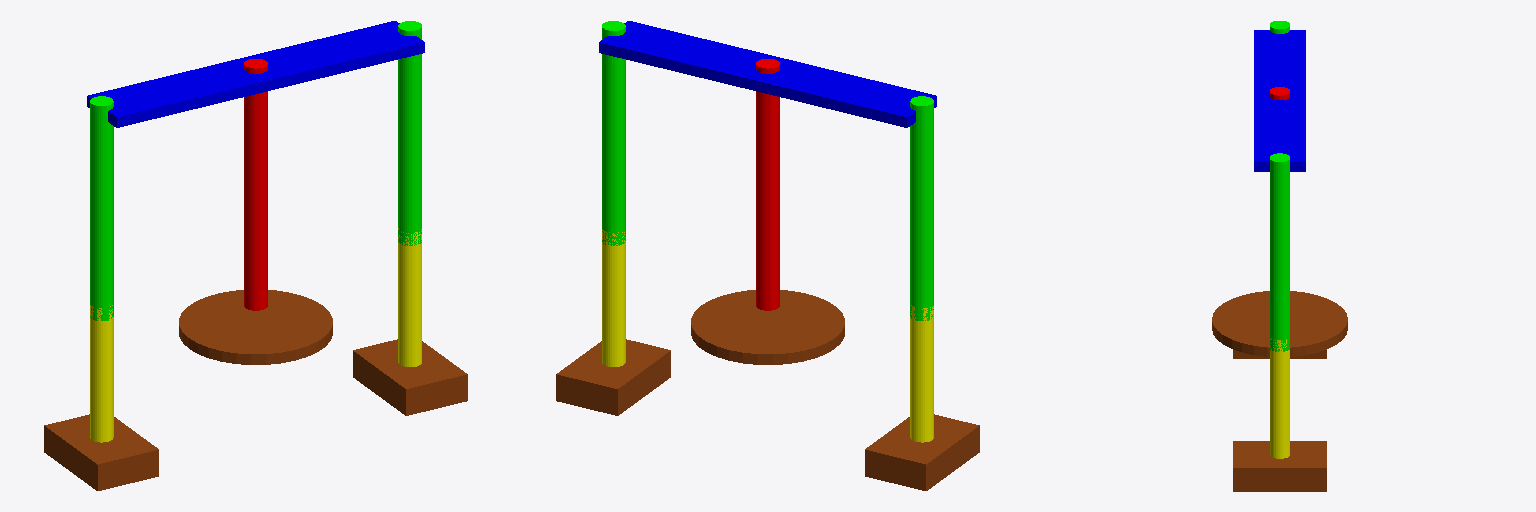
robot.urdf — better_tripedal_robot:
<?xml version="1.0" ?>
<robot name="better_tripedal_robot">

  <!-- Base link -->
  <link name="base_link">
    <inertial>
      <origin xyz="0 0 0" rpy="0 0 0"/>
      <mass value="0.5"/>
      <inertia ixx="0.1" ixy="0" ixz="0" iyy="0.1" iyz="0" izz="0.1"/>
    </inertial>
    <collision>
      <geometry>
        <box size="0.6 0.1 0.02"/>
      </geometry>
    </collision>
    <visual>
      <origin xyz="0 0 0.18" rpy="0 0 0"/>
      <geometry>
        <box size="0.6 0.1 0.02"/>
      </geometry>
      <material name="blue"/>
    </visual>
  </link>

  <!-- Define materials -->
  <material name="blue">
    <color rgba="0 0 1 1"/>
  </material>
  <material name="green">
    <color rgba="0 1 0 1"/>
  </material>
  <material name="yellow">
    <color rgba="1 1 0 1"/>
  </material>
  <material name="red">
    <color rgba="1 0 0 1"/>
  </material>
  <material name="brown">
    <color rgba="0.6 0.3 0.1 1"/>
  </material>

  <!-- Outer Left Leg -->
  <link name="left_leg_upper">
    <inertial>
      <origin xyz="0 0 0" rpy="0 0 0"/>
      <mass value="0.3"/>
      <inertia ixx="0.005" ixy="0" ixz="0.005" iyy="0.005" iyz="0" izz="0.005"/>
    </inertial>
    <collision>
      <geometry>
        <cylinder radius="0.02" length="0.4"/>
      </geometry>
    </collision>
    <visual>
      <geometry>
        <cylinder radius="0.02" length="0.4"/>
      </geometry>
      <material name="green"/>
    </visual>
  </link>

  <link name="left_leg_lower">
    <inertial>
      <origin xyz="0 0 -0.18" rpy="0 0 0"/> <!-- Adjusted to position the lower leg relative to upper leg -->
      <mass value="0.3"/>
      <inertia ixx="0.005" ixy="0" ixz="0.005" iyy="0.005" iyz="0" izz="0.005"/>
    </inertial>
    <collision>
      <geometry>
        <cylinder radius="0.02" length="0.4"/>
      </geometry>
    </collision>
    <visual>
     <origin xyz="0 0 -0.1" rpy="0 0 0"/> 
      <geometry>
        <cylinder radius="0.02" length="0.25"/>
      </geometry>
      <material name="yellow"/>
    </visual>
  </link>

<joint name="left_knee" type="revolute">
  <parent link="left_leg_upper"/>
  <child link="left_leg_lower"/>
  <origin xyz="0 0 -0.2" rpy="0 0 0"/> <!-- Ensure this aligns with the lower leg's top -->
  <axis xyz="1 0 0"/>
  <limit lower="-2.356" upper="2.356" effort="10" velocity="10"/> <!-- Updated range for LK -->
</joint>

  <!-- Outer Right Leg -->
  <link name="right_leg_upper">
    <inertial>
      <origin xyz="0 0 0" rpy="0 0 0"/>
      <mass value="0.3"/>
      <inertia ixx="0.005" ixy="0" ixz="0.005" iyy="0.005" iyz="0" izz="0.005"/>
    </inertial>
    <collision>
      <geometry>
        <cylinder radius="0.02" length="0.4"/>
      </geometry>
    </collision>
    <visual>
      <geometry>
        <cylinder radius="0.02" length="0.4"/>
      </geometry>
      <material name="green"/>
    </visual>
  </link>

  <link name="right_leg_lower">
    <inertial>
      <origin xyz="0 0 -0.18" rpy="0 0 0"/> <!-- Adjusted to position the lower leg relative to upper leg -->
      <mass value="0.3"/>
      <inertia ixx="0.005" ixy="0" ixz="0.005" iyy="0.005" iyz="0" izz="0.005"/>
    </inertial>
    <collision>
      <geometry>
        <cylinder radius="0.02" length="0.4"/>
      </geometry>
    </collision>
    <visual>
     <origin xyz="0 0 -0.1" rpy="0 0 0"/> 
      <geometry>
        <cylinder radius="0.02" length="0.25"/>
      </geometry>
      <material name="yellow"/>
    </visual>
  </link>

<joint name="right_knee" type="revolute">
  <parent link="right_leg_upper"/>
  <child link="right_leg_lower"/>
  <origin xyz="0 0 -0.2" rpy="0 0 0"/> <!-- Ensure this aligns with the lower leg's top -->
  <axis xyz="1 0 0"/>
  <limit lower="-2.356" upper="2.356" effort="10" velocity="10"/> <!-- Updated range for RK -->
</joint>


<!-- Center Leg Part 1 -->
<link name="center_leg_part1">
  <inertial>
    <origin xyz="0 0 0" rpy="0 0 0"/>
    <mass value="0.3"/>
    <inertia ixx="0.0025" ixy="0" ixz="0" iyy="0.0025" iyz="0" izz="0.0025"/>
  </inertial>
  <collision>
    <geometry>
      <cylinder radius="0.02" length="0.1"/>
    </geometry>
  </collision>
  <visual>
    <origin xyz="0 0 -.1" rpy="0 0 0"/>
    <geometry>
      <cylinder radius="0.02" length="0.4"/>
    </geometry>
    <material name="red"/>
  </visual>
</link>

<joint name="center_leg_joint1" type="revolute">
  <parent link="base_link"/>
  <child link="center_leg_part1"/>
  <origin xyz="0 0 0.1" rpy="0 0 0"/>
  <axis xyz="1 0 0"/>
  <limit lower="-1.57" upper="1.57" effort="10" velocity="10"/>
</joint>

<!-- Center Leg Part 2 -->
<link name="center_leg_part2">
  <inertial>
    <origin xyz="0 0 -0.5" rpy="0 0 0"/>
    <mass value="0.5"/>
    <inertia ixx="0.0025" ixy="0" ixz="0.0025" iyy="0.0025" iyz="0" izz="0.0025"/>
  </inertial>
  <collision>
    <geometry>
      <cylinder radius="0.02" length="0.4"/>
    </geometry>
  </collision>
  <visual>
    <geometry>
      <cylinder radius="0.02" length="0.4"/>
    </geometry>
    <material name="red"/>
  </visual>
</link>

<joint name="center_leg_joint2" type="prismatic">
  <parent link="center_leg_part1"/>
  <child link="center_leg_part2"/>
  <origin xyz="0 0 -0.15" rpy="0 0 0"/>
  <axis xyz="0 0 -0.6"/>
  <limit lower="0.0" upper="0.4" effort="10" velocity="10"/>
</joint>

 <link name="center_foot">
    <inertial>
      <origin xyz="0 0 0" rpy="0 0 0"/>
      <mass value="0.5"/>
      <inertia ixx="0.005" ixy="0" ixz="0.005" iyy="0.005" iyz="0" izz="0.005"/>
    </inertial>
    <collision>
      <geometry>
        <cylinder radius="0.13" length="0.02"/> <!-- Circular design -->
      </geometry>
      <surface>
        <friction>
          <ode>
            <mu>2.0</mu>
            <mu2>2.0</mu2>
          </ode>
        </friction>
        <rolling_friction>
          <ode>
            <slip1>0.04</slip1>
            <slip2>0.04</slip2>
          </ode>
        </rolling_friction>
      </surface>
    </collision>
    <visual>
      <geometry>
        <cylinder radius="0.13" length="0.02"/> <!-- Circular design -->
      </geometry>
      <material name="brown"/>
    </visual>
  </link>

  <!-- Feet -->
  <link name="left_foot">
    <inertial>
      <origin xyz="0 0 0" rpy="0 0 0"/>
      <mass value="0.5"/>
      <inertia ixx="0.005" ixy="0" ixz="0.005" iyy="0.005" iyz="0" izz="0.005"/>
    </inertial>
    <collision>
      <geometry>
        <box size="0.12 0.18 0.05"/> <!-- Increased size for thickness -->
      </geometry>
      <surface>
        <friction>
          <ode>
            <mu>2.0</mu>
            <mu2>2.0</mu2>
          </ode>
        </friction>
        <rolling_friction>
          <ode>
            <slip1>0.04</slip1>
            <slip2>0.04</slip2>
          </ode>
        </rolling_friction>
      </surface>
    </collision>
    <visual>
      <geometry>
        <box size="0.12 0.18 0.05"/> <!-- Increased size for thickness -->
      </geometry>
      <material name="brown"/>
    </visual>
  </link>

  <link name="right_foot">
    <inertial>
      <origin xyz="0 0 0" rpy="0 0 0"/>
      <mass value="0.5"/>
      <inertia ixx="0.005" ixy="0" ixz="0.005" iyy="0.005" iyz="0" izz="0.005"/>
    </inertial>
    <collision>
      <geometry>
        <box size="0.12 0.18 0.05"/> <!-- Increased size for thickness -->
      </geometry>
      <surface>
        <friction>
          <ode>
            <mu>2.0</mu>
            <mu2>2.0</mu2>
          </ode>
        </friction>
        <rolling_friction>
          <ode>
            <slip1>0.04</slip1>
            <slip2>0.04</slip2>
          </ode>
        </rolling_friction>
      </surface>
    </collision>
    <visual>
      <geometry>
        <box size="0.12 0.18 0.05"/> <!-- Increased size for thickness -->
      </geometry>
      <material name="brown"/>
    </visual>
  </link>

  <!-- Joints connecting legs to base -->
<joint name="left_hip" type="revolute">
  <parent link="base_link"/>
  <child link="left_leg_upper"/>
  <origin xyz="-0.3 0 0" rpy="0 0 0"/>
  <axis xyz="1 0 0"/>
  <limit lower="-2.617" upper="2.617" effort="10" velocity="10"/> <!-- Updated range for LH -->
</joint>

<joint name="right_hip" type="revolute">
  <parent link="base_link"/>
  <child link="right_leg_upper"/>
  <origin xyz="0.3 0 0" rpy="0 0 0"/>
  <axis xyz="1 0 0"/>
  <limit lower="-2.617" upper="2.617" effort="10" velocity="10"/> <!-- Updated range for RH -->
</joint>

  <!-- Feet joints -->
  <joint name="left_foot_joint" type="revolute">
    <parent link="left_leg_lower"/>
    <child link="left_foot"/>
    <origin xyz="0 0 -0.25" rpy="0 0 0"/>
    <axis xyz="1 0 -0.1"/>
    <limit lower="-1.57" upper="1.57" effort="10" velocity="10"/>
  </joint>

  <joint name="right_foot_joint" type="revolute">
    <parent link="right_leg_lower"/>
    <child link="right_foot"/>
    <origin xyz="0 0 -0.25" rpy="0 0 0"/>
    <axis xyz="1 0 -0.1"/>
    <limit lower="-1.57" upper="1.57" effort="10" velocity="10"/>
  </joint>

<joint name="center_foot_joint" type="revolute">
  <parent link="center_leg_part2"/>
  <child link="center_foot"/>
  <origin xyz="0 0 -0.24" rpy="0 0 0"/>
  <axis xyz="1 0 0"/>
  <limit lower="-1.57" upper="1.57" effort="10" velocity="10"/>
</joint>

</robot>

--- What the picture shows (computed from the rendered views, not written in the file) ---
The picture shows the robot from 3 angles, left to right: view 1: azimuth 30°, elevation 25°; view 2: azimuth 150°, elevation 25°; view 3: azimuth 270°, elevation 25°; orthographic projection.
Robot: better_tripedal_robot — 10 links, 9 joints (8 revolute, 1 prismatic); root link base_link; default pose: all joints at 0.
Links seen in each view (by area): view 1: base_link, center_foot, left_foot, right_foot, left_leg_upper, right_leg_upper, center_leg_part1, right_leg_lower, left_leg_lower, center_leg_part2; view 2: base_link, center_foot, left_foot, right_foot, left_leg_upper, right_leg_upper, center_leg_part1, left_leg_lower, right_leg_lower, center_leg_part2; view 3: base_link, center_foot, right_foot, right_leg_upper, right_leg_lower.
Link boxes in pixels (bbox=[...]): base_link: bbox=[87, 21, 424, 127]; center_foot: bbox=[179, 290, 332, 364]; left_foot: bbox=[44, 414, 158, 490]; right_foot: bbox=[353, 339, 467, 415]; left_leg_upper: bbox=[90, 96, 113, 320]; right_leg_upper: bbox=[398, 21, 421, 245]; center_leg_part1: bbox=[244, 59, 267, 283]; right_leg_lower: bbox=[398, 228, 421, 366]; left_leg_lower: bbox=[90, 305, 113, 442]; center_leg_part2: bbox=[244, 95, 267, 310]; base_link: bbox=[599, 21, 936, 127]; center_foot: bbox=[691, 290, 844, 364]; left_foot: bbox=[865, 414, 979, 490]; right_foot: bbox=[556, 339, 670, 415]; left_leg_upper: bbox=[910, 96, 933, 320]; right_leg_upper: bbox=[602, 21, 625, 245]; center_leg_part1: bbox=[756, 59, 779, 283]; left_leg_lower: bbox=[910, 305, 933, 442]; right_leg_lower: bbox=[602, 229, 625, 366]; center_leg_part2: bbox=[756, 94, 779, 310]; base_link: bbox=[1254, 30, 1305, 171]; center_foot: bbox=[1212, 291, 1347, 356]; right_foot: bbox=[1233, 441, 1326, 491]; right_leg_upper: bbox=[1270, 153, 1289, 351]; right_leg_lower: bbox=[1270, 338, 1289, 458].
Size in the robot's own frame: 0.72 by 0.26 by 0.675 metres.
Geometry: primitives only (box / cylinder / sphere), no mesh files.